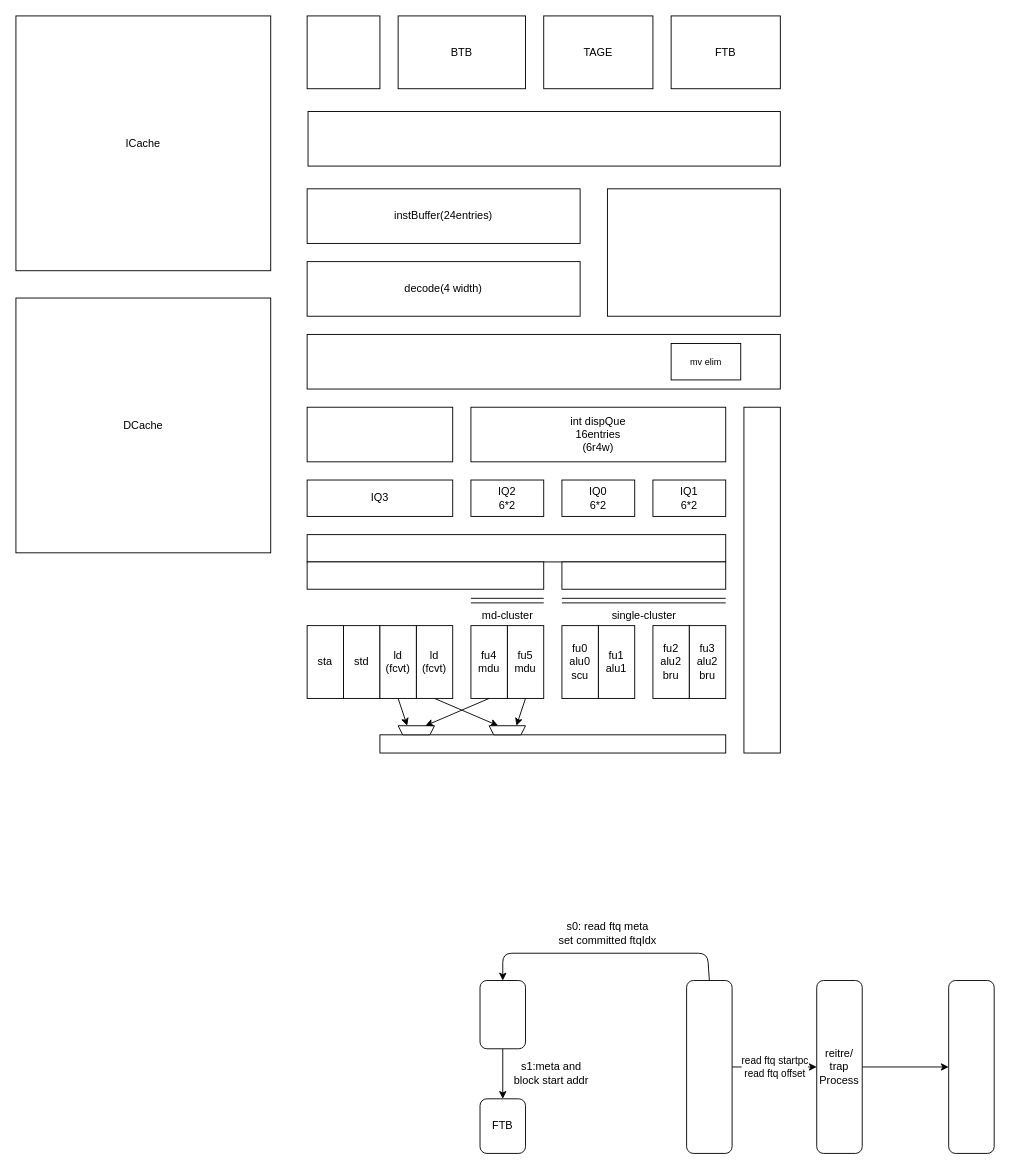
The diagram is 1010 pixels wide and 1169 high, and some of its shapes have lost their labels. Each missing label, with the box of its shape:
commit: (686, 980, 732, 1153)
FTQ: (479, 980, 526, 1049)
FTQ + fetcher: (307, 111, 780, 166)
int phyregfile(cluster0) 80entries(8r6w): (561, 561, 726, 589)
int phyregfile(cluster1) 80entries(10r6w): (306, 561, 544, 589)
int-immBuffer 60entries(7r4w): (306, 534, 726, 562)
int-writeback: (379, 734, 726, 753)
mem dispQue 16entries (4r4w): (306, 406, 453, 462)
RAS: (306, 15, 380, 89)
rename(4 width): (306, 334, 780, 389)
rob 96 entries: (743, 406, 780, 753)
trap squash: (948, 980, 994, 1153)
uop cache: (607, 188, 780, 316)
